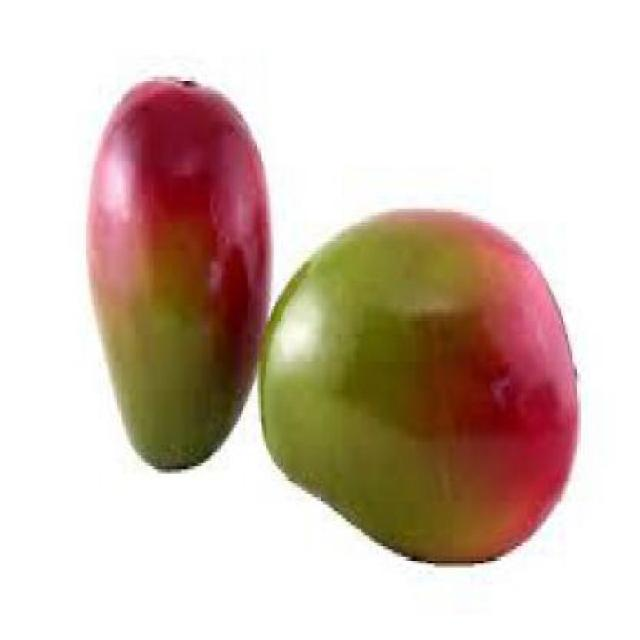BIODEGRADABLE: (260, 211, 580, 566), (86, 77, 272, 474)
